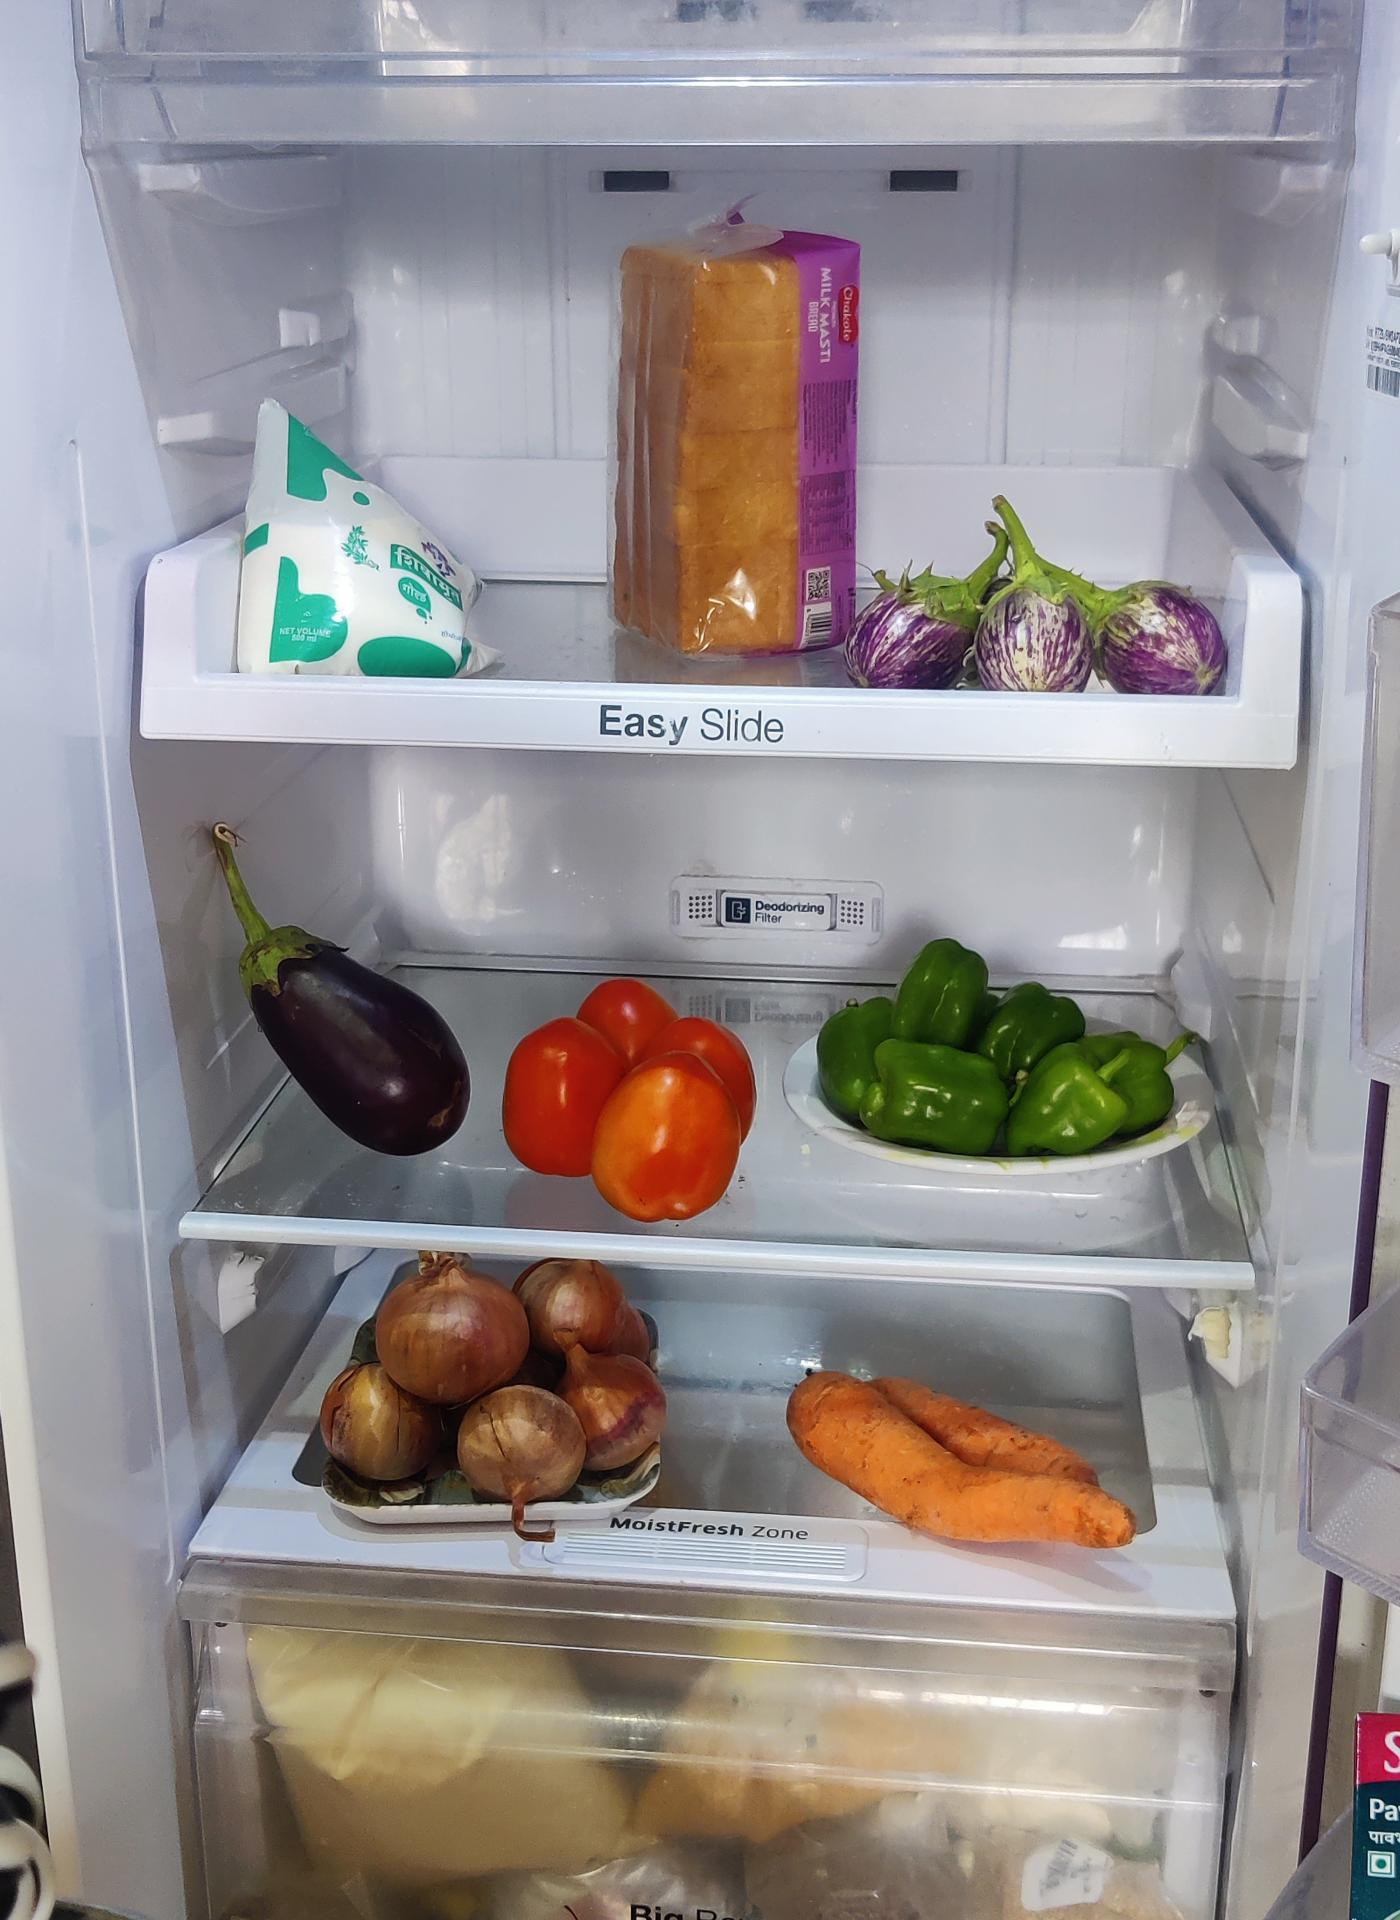bread: (602, 212, 872, 659)
brinjal: (239, 885, 468, 1154), (850, 538, 1221, 689)
capsicum: (811, 938, 1191, 1160)
carrots: (786, 1364, 1142, 1556)
milk: (233, 392, 486, 672)
onion: (316, 1249, 665, 1498)
tomato: (502, 969, 759, 1212)
